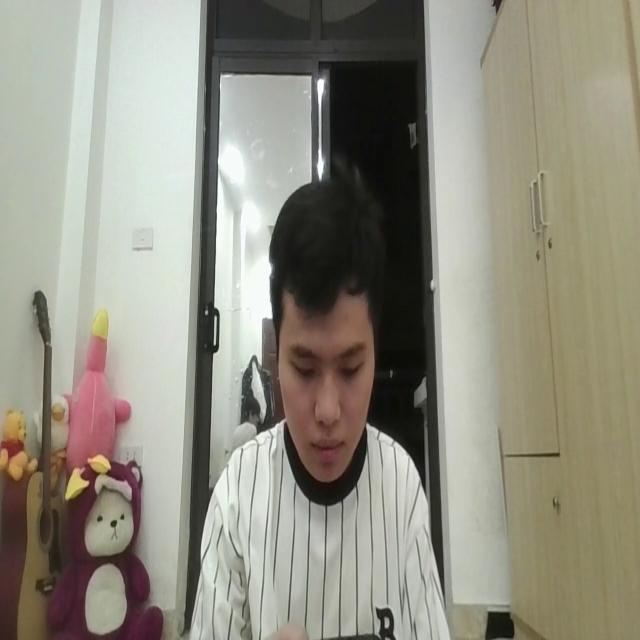student: (192, 162, 450, 640)
